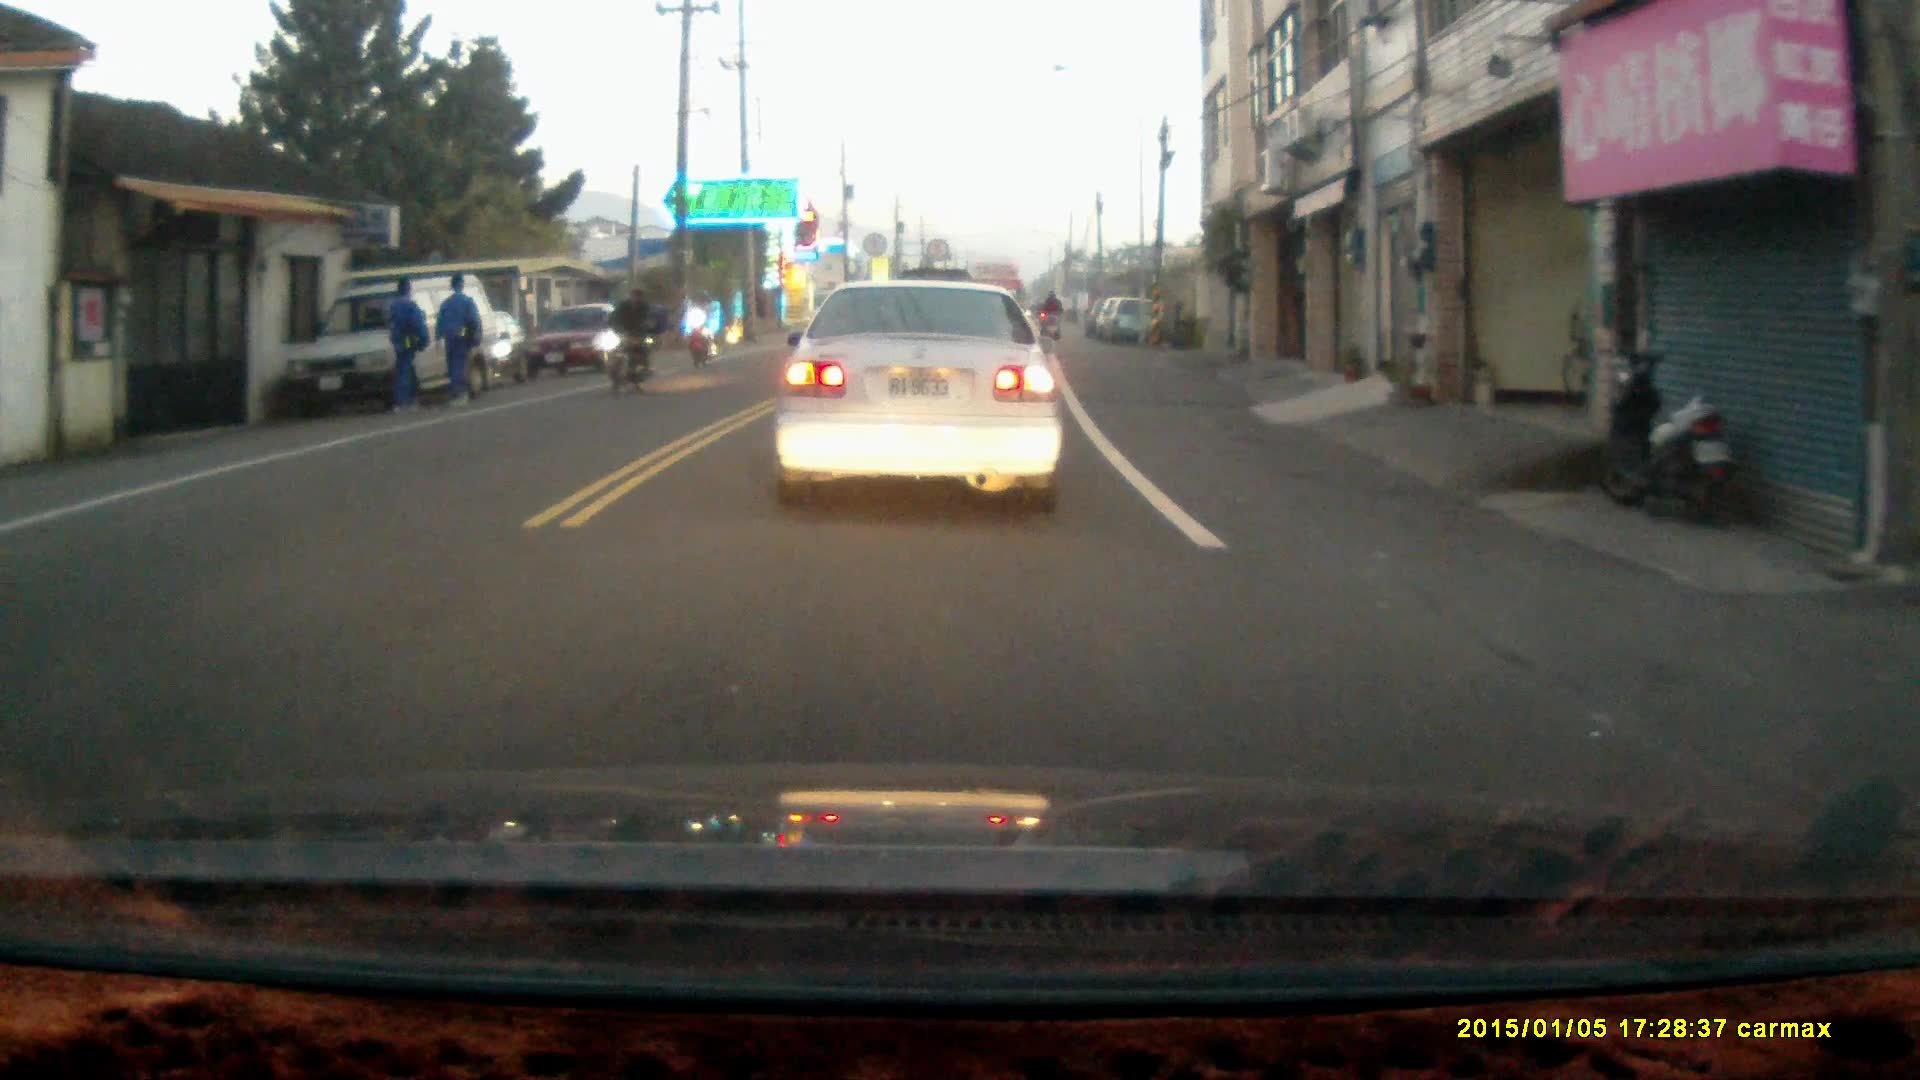pedestrian: (431, 271, 482, 412), (378, 279, 427, 416)
rider: (600, 283, 666, 397), (683, 286, 717, 370)
vehicle: (770, 275, 1067, 513), (285, 276, 512, 410), (527, 305, 641, 383)
